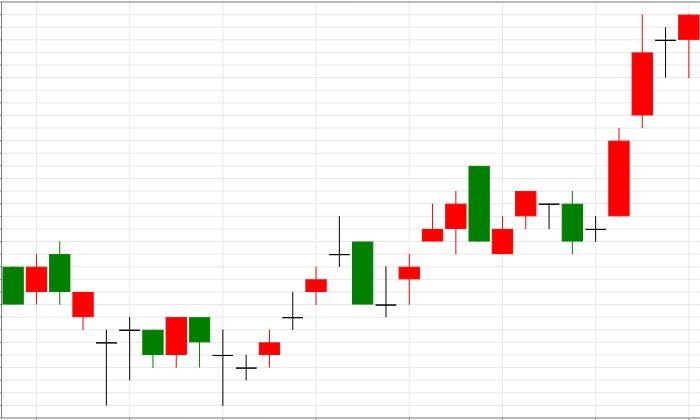hanging_man_fall: (585, 15, 700, 242)
